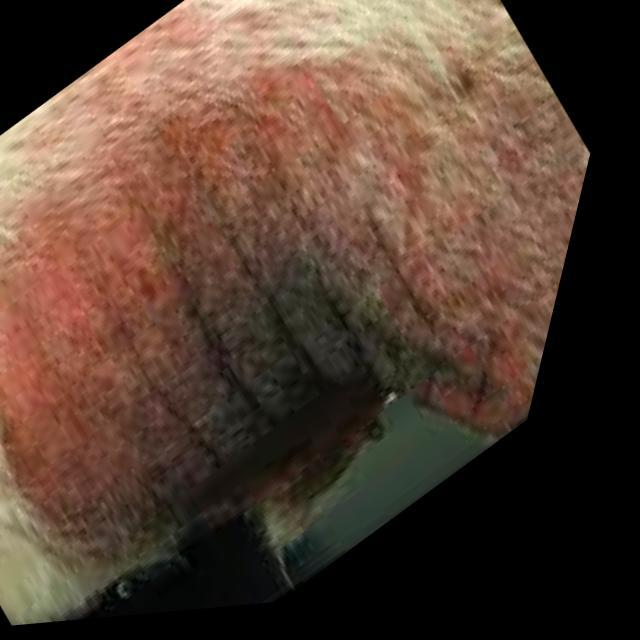nhiem nam (cho): (0, 0, 594, 629)
